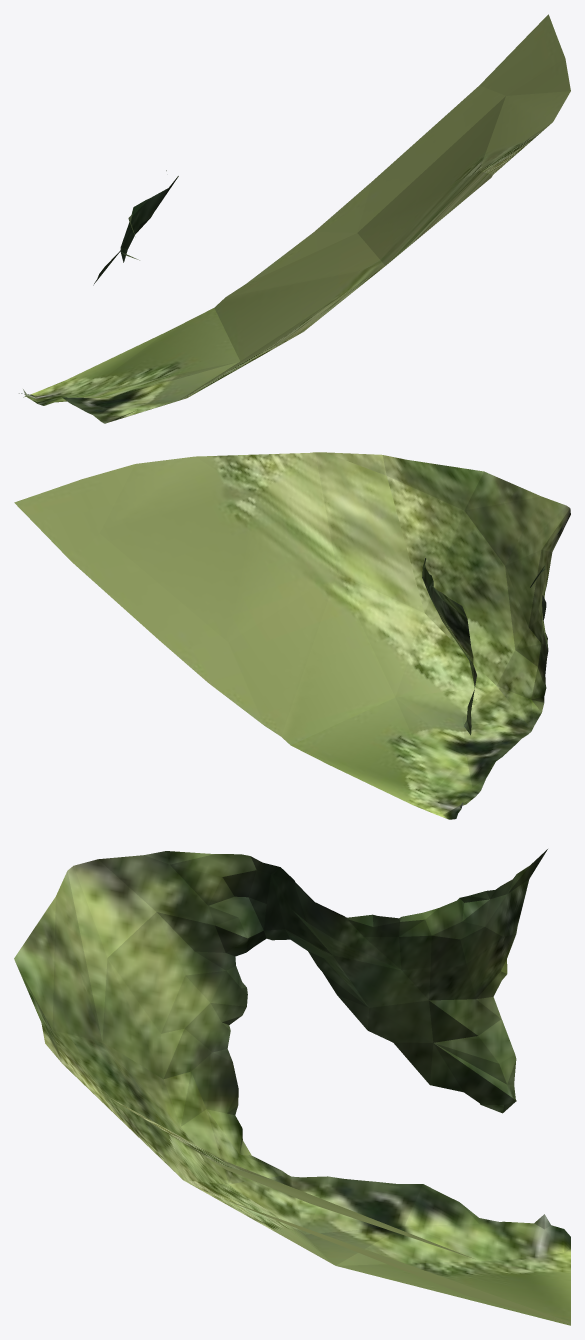
3 renders of one model, top to bottom at view 1: azimuth 30°, elevation 25°; view 2: azimuth 150°, elevation 25°; view 3: azimuth 270°, elevation 25°, orthographic. The views are drawn at different scales.
Size of the model in its own units: 20.9 by 9.52 by 12.22.
1 material, 1 textured.
